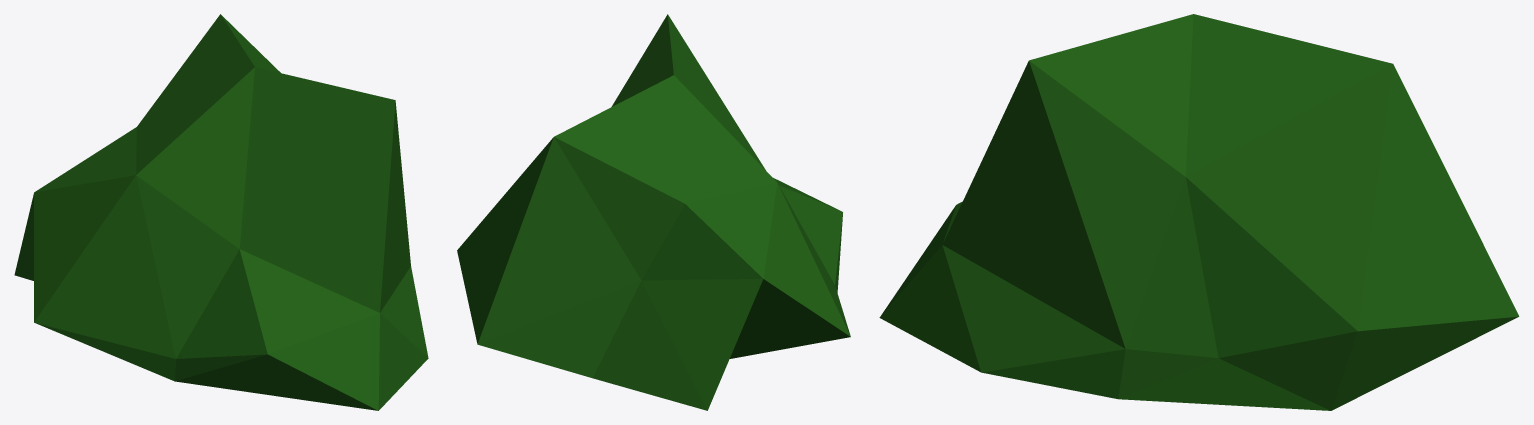
File: Bush.fbx
3 renders of one model, left to right at view 1: azimuth 30°, elevation 25°; view 2: azimuth 150°, elevation 25°; view 3: azimuth 270°, elevation 25°, orthographic. The views are drawn at different scales.
Parts seen in each view (by area): view 1: Bush; view 2: Bush; view 3: Bush.
Boxes of the visible parts, bbox=[...] form: Bush: bbox=[14, 14, 428, 410]; Bush: bbox=[457, 14, 850, 410]; Bush: bbox=[879, 14, 1519, 410].
Bounding box in the file's own units: 2.02 × 1.3 × 2.46.
